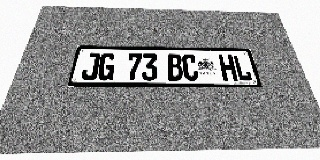3: (142, 54, 157, 81)
7: (125, 53, 142, 81)
B: (167, 54, 183, 81)
C: (182, 54, 199, 81)
G: (97, 53, 116, 81)
H: (218, 55, 238, 81)
J: (80, 53, 101, 80)
L: (232, 55, 253, 81)
